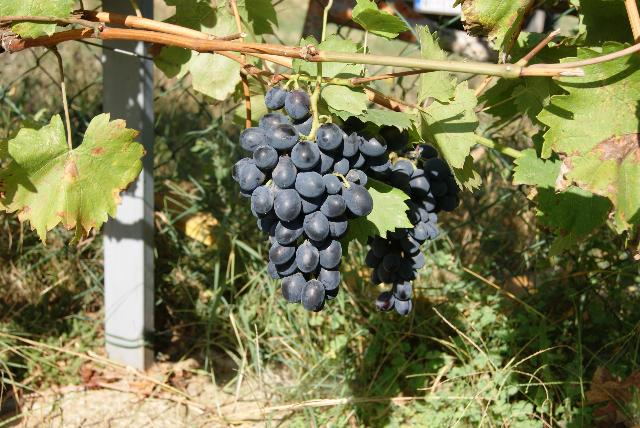grapes: (232, 88, 389, 311), (365, 144, 460, 315)
